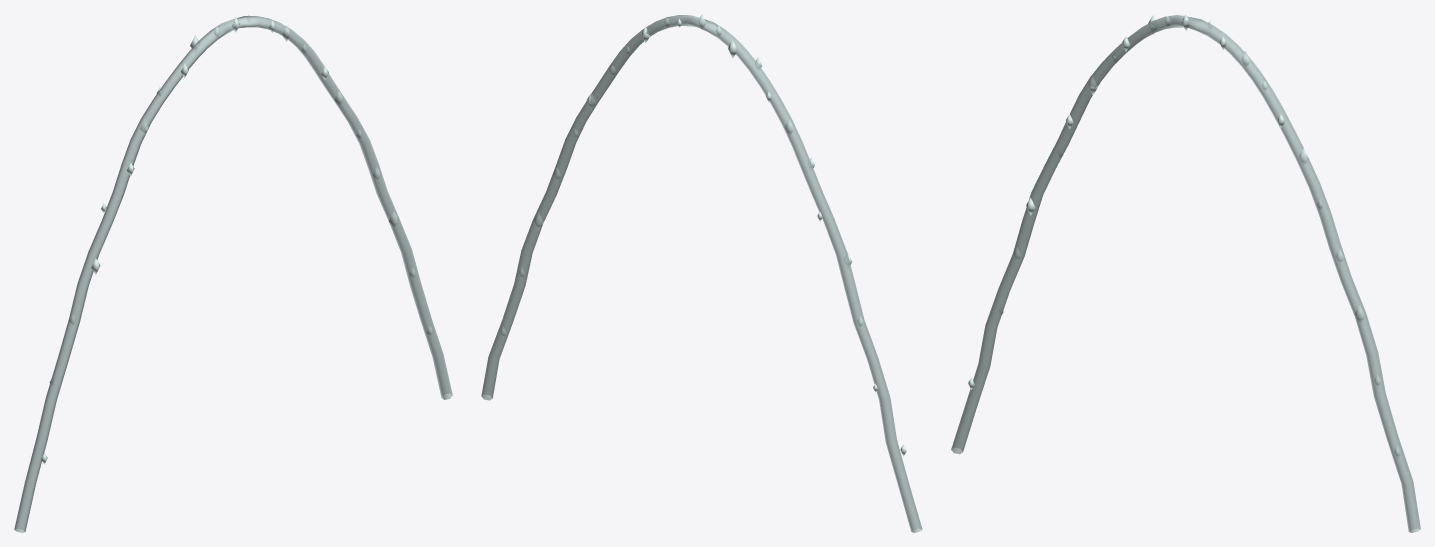
Rendered from lateralJet.glb.
The picture shows the model from 3 angles, left to right: view 1: azimuth 30°, elevation 25°; view 2: azimuth 150°, elevation 25°; view 3: azimuth 330°, elevation 25°; orthographic projection. The views are drawn at different scales.
Visible parts, largest first — view 1: lateralJet_stream, lateralJet_spray; view 2: lateralJet_stream, lateralJet_spray; view 3: lateralJet_stream, lateralJet_spray.
Boxes of the visible parts, <box> form: lateralJet_stream: <box>14,16,452,532</box>; lateralJet_spray: <box>41,14,432,464</box>; lateralJet_stream: <box>481,15,922,532</box>; lateralJet_spray: <box>500,14,906,456</box>; lateralJet_stream: <box>951,15,1420,532</box>; lateralJet_spray: <box>968,14,1400,458</box>.
Size of the model in its own units: 2.19 by 2.22 by 0.1342.
